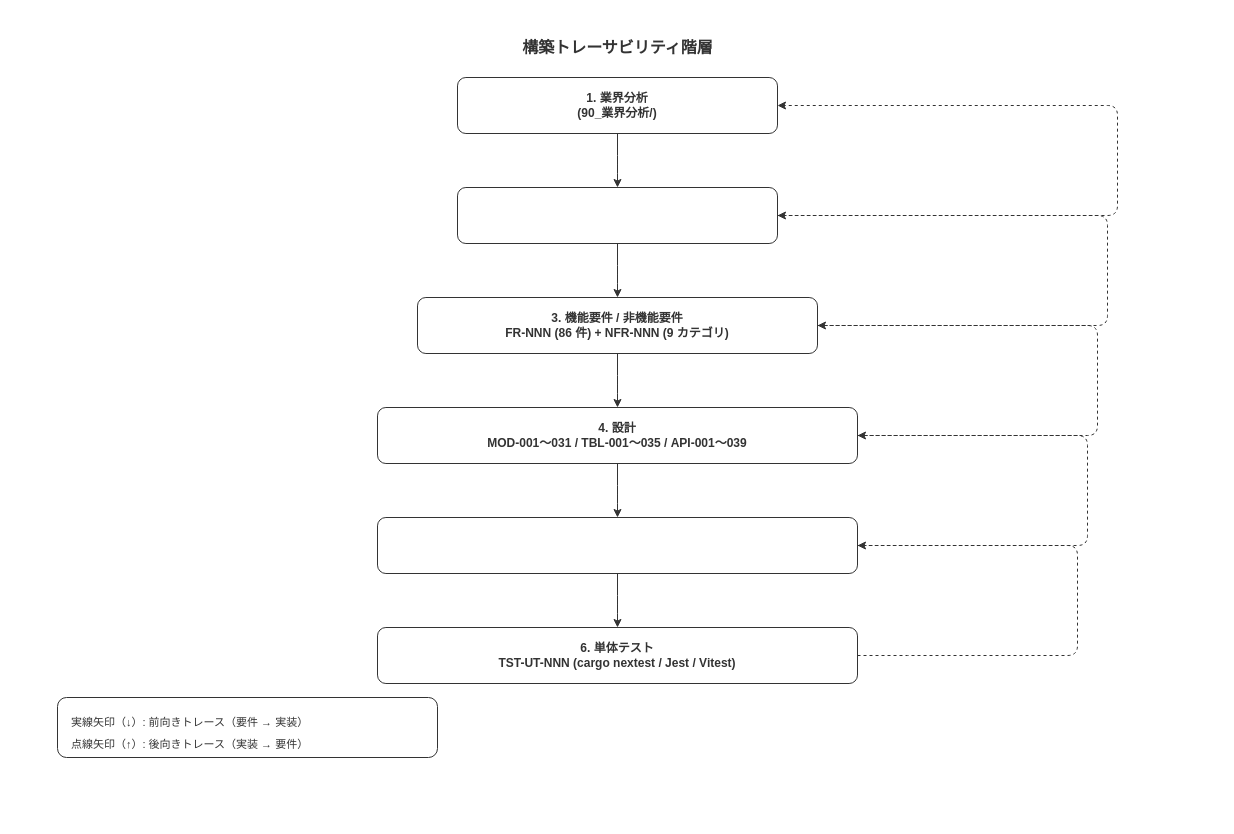
The diagram is 1234 pixels wide and 834 high, and some of its shapes have lost their labels. The box of each missing label's shape, as (x1, y1, x2, y2) in pixels:
2. ビジネス要件 BR-BUS / BR-SC（35 件）: (456, 186, 778, 244)
5. 実装 IMPL-001〜031 (src/ 配下のモジュール): (376, 516, 858, 574)
